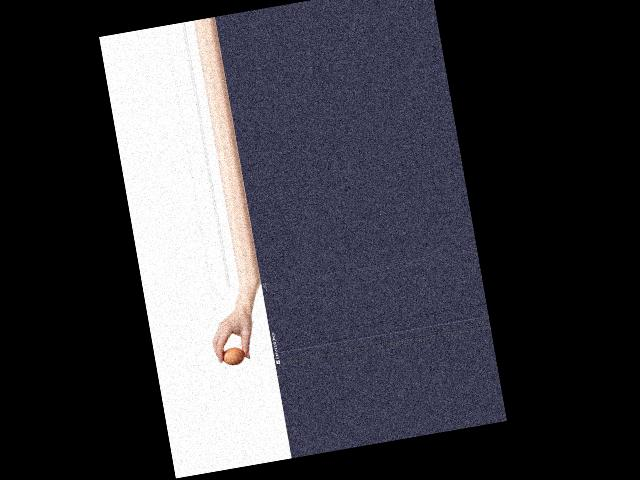egg: (221, 345, 246, 366)
